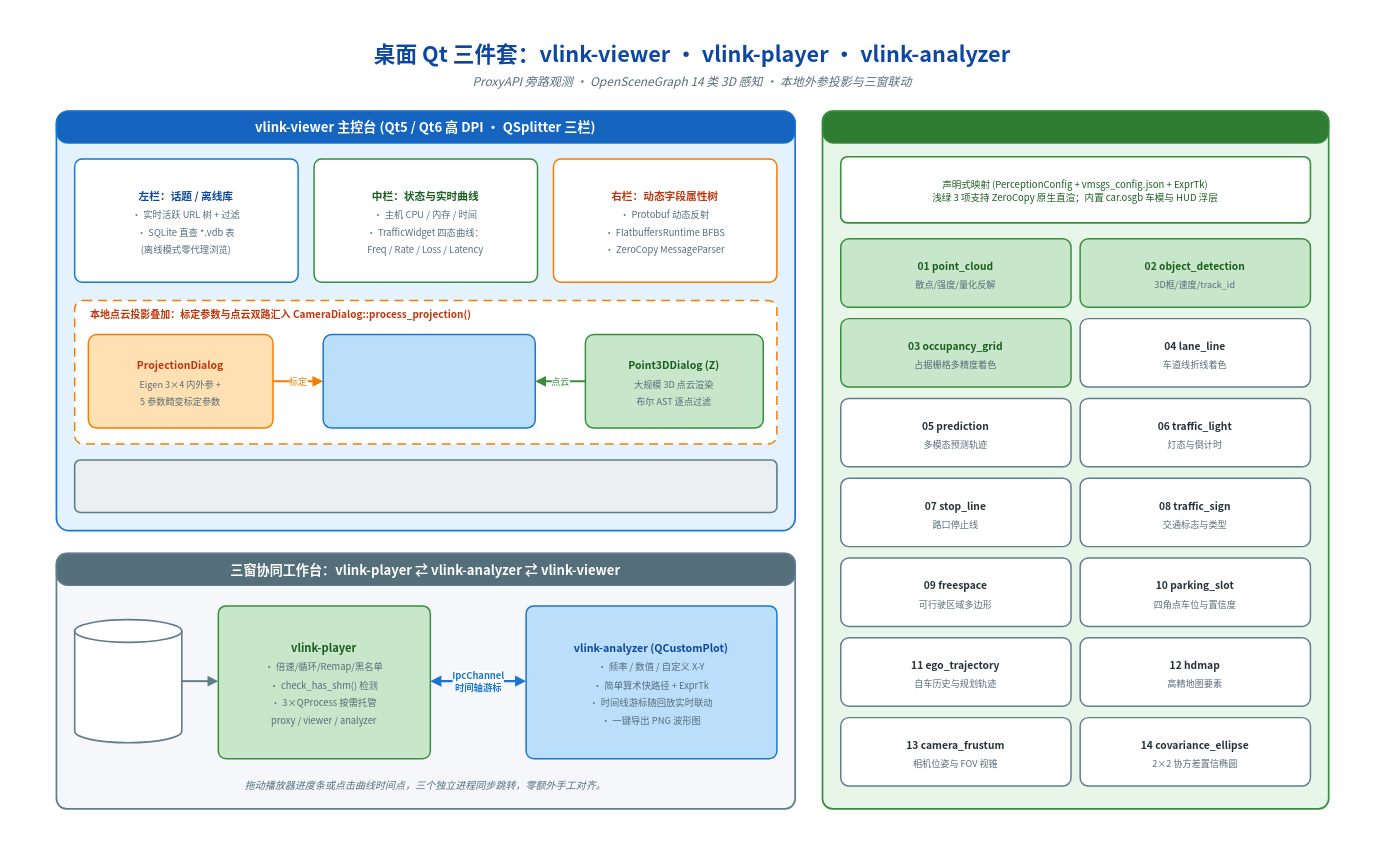
The diagram is 1384 pixels wide and 860 high, and some of its shapes have lost their labels. The box of each missing label's shape, as (x1, y1, x2, y2) in pixels:
Bag 文件 .vdb / .vcap: (73, 618, 182, 743)
CameraDialog (S) 独立线程 FFmpegDecoder process_projection() 实时叠加: (322, 333, 535, 428)
OpenSceneGraph 14 类 3D 感知渲染器: (821, 110, 1329, 143)
常用扩展窗口：EditDialog (树形改字段并定时发包) · TopologyDialog (拓扑图) · RecordDialog · RawDialog: (73, 459, 777, 513)
